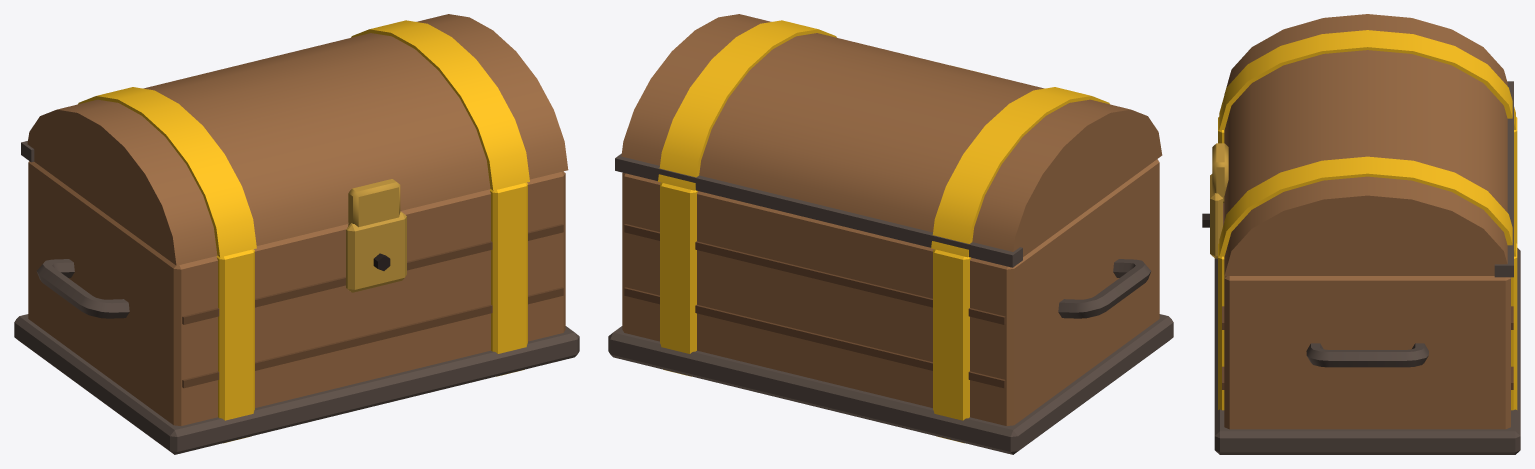
Rendered from chest__upper.glb.
The picture shows the model from 3 angles, left to right: view 1: azimuth 30°, elevation 25°; view 2: azimuth 150°, elevation 25°; view 3: azimuth 270°, elevation 25°; orthographic projection. The views are drawn at different scales.
Parts seen in each view (by area): view 1: Body, Lid; view 2: Body, Lid; view 3: Lid, Body.
Boxes of the visible parts, x1,y1,x2,y2 form: Body: [14, 161, 579, 454]; Lid: [21, 14, 568, 265]; Body: [608, 159, 1173, 454]; Lid: [615, 14, 1162, 267]; Lid: [1212, 14, 1515, 277]; Body: [1202, 117, 1520, 454].
Bounding box in the file's own units: 0.7993 × 0.4434 × 0.489.
